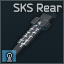SKS rear sight: (0, 0, 64, 64)
